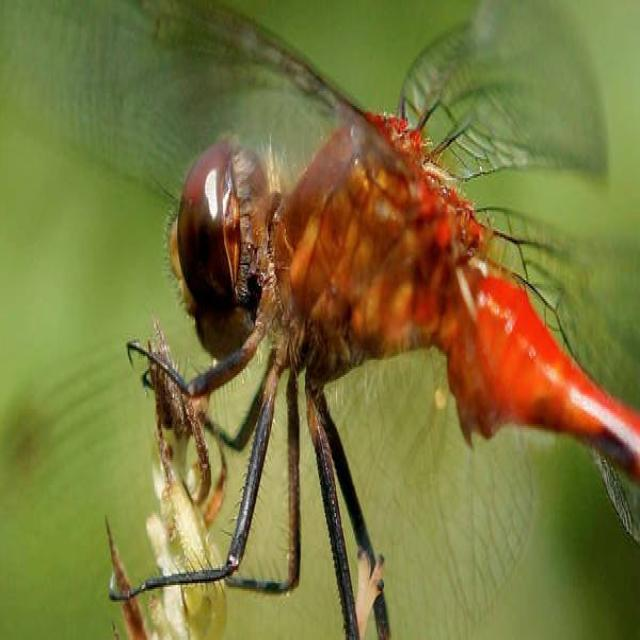dragonfly: (17, 0, 639, 638)
